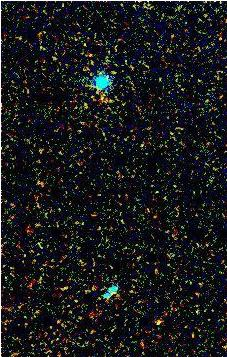star: (143, 309, 173, 339)
